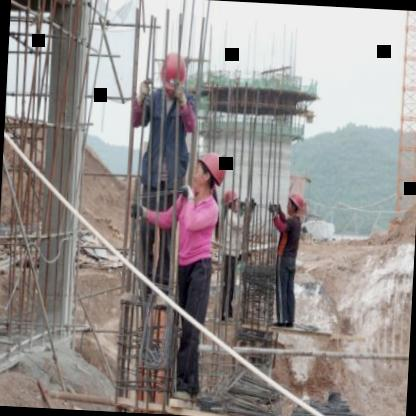helmet: (189, 148, 228, 198), (156, 49, 192, 100), (285, 190, 306, 218), (221, 184, 240, 209)
